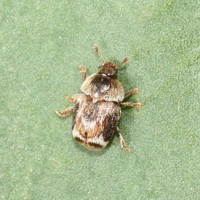insect: (56, 44, 142, 151)
